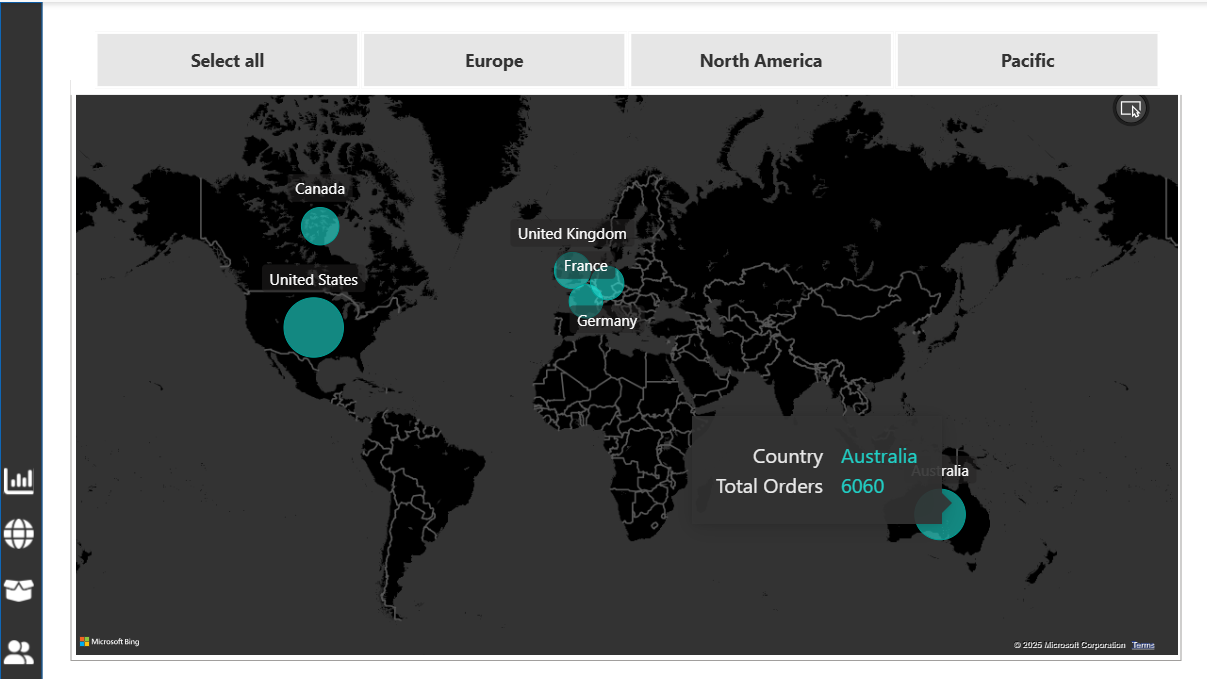

The page's visual inventory and layout, read from the dashboard file:
{"tool":"powerbi","page":{"name":"Map","canvas":[1280,720],"ordinal":1},"visuals":[{"type":"shape","box":[0,0,45,720],"z":0},{"type":"actionButton","box":[0,487.9,44.5,39.7],"z":1000,"group":"g1"},{"type":"map","fields":{"Category":["Territory Lookup.Country"],"Size":["Measure Table.Total Orders"]},"box":[74.7,82.6,1179.3,615.1],"z":1000},{"type":"slicer","fields":{"Values":["Territory Lookup.Continent"]},"box":[74.7,23.8,1179.3,74.7],"z":2000},{"type":"actionButton","box":[0,603.9,44.5,39.7],"z":2000,"group":"g1"},{"type":"actionButton","box":[0,669.1,44.5,39.7],"z":3000,"group":"g1"},{"type":"group","id":"g1","title":"Navigation Buttons","box":[0,487.9,44.5,220.9],"z":3000},{"type":"actionButton","box":[0,543.5,44.5,39.7],"z":4000,"group":"g1"}]}

Visuals, with their boxes on the page's 1280x720 design canvas (x1, y1, x2, y2). These are canvas units, not pixel positions in the 1207x679 screenshot, which may show the page scaled, cropped or inside an application window:
shape: locate(0, 0, 45, 720)
actionButton: locate(0, 488, 44, 528)
map - Territory Lookup.Country x Measure Table.Total Orders: locate(75, 83, 1254, 698)
slicer - Territory Lookup.Continent: locate(75, 24, 1254, 98)
actionButton: locate(0, 604, 44, 644)
actionButton: locate(0, 669, 44, 709)
"Navigation Buttons" group: locate(0, 488, 44, 709)
actionButton: locate(0, 544, 44, 583)
